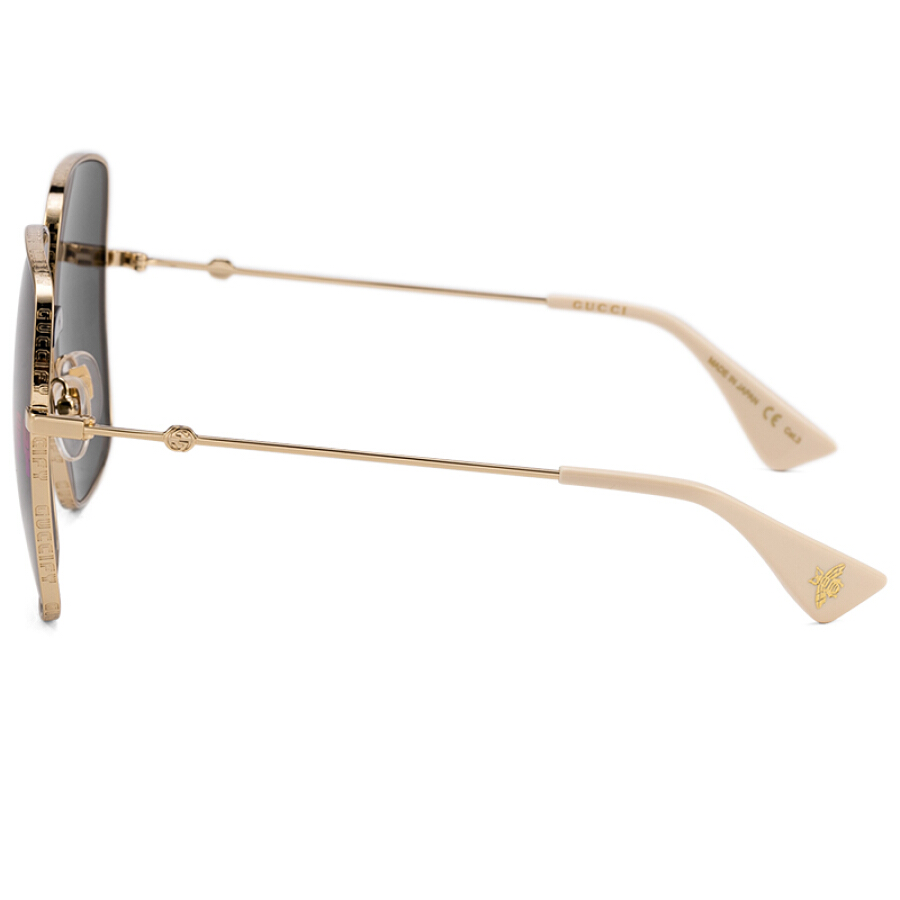Gucci: (562, 289, 635, 324), (158, 420, 201, 462)
